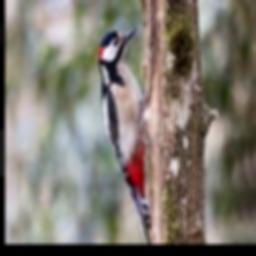Woodpecker: (99, 25, 151, 244)
